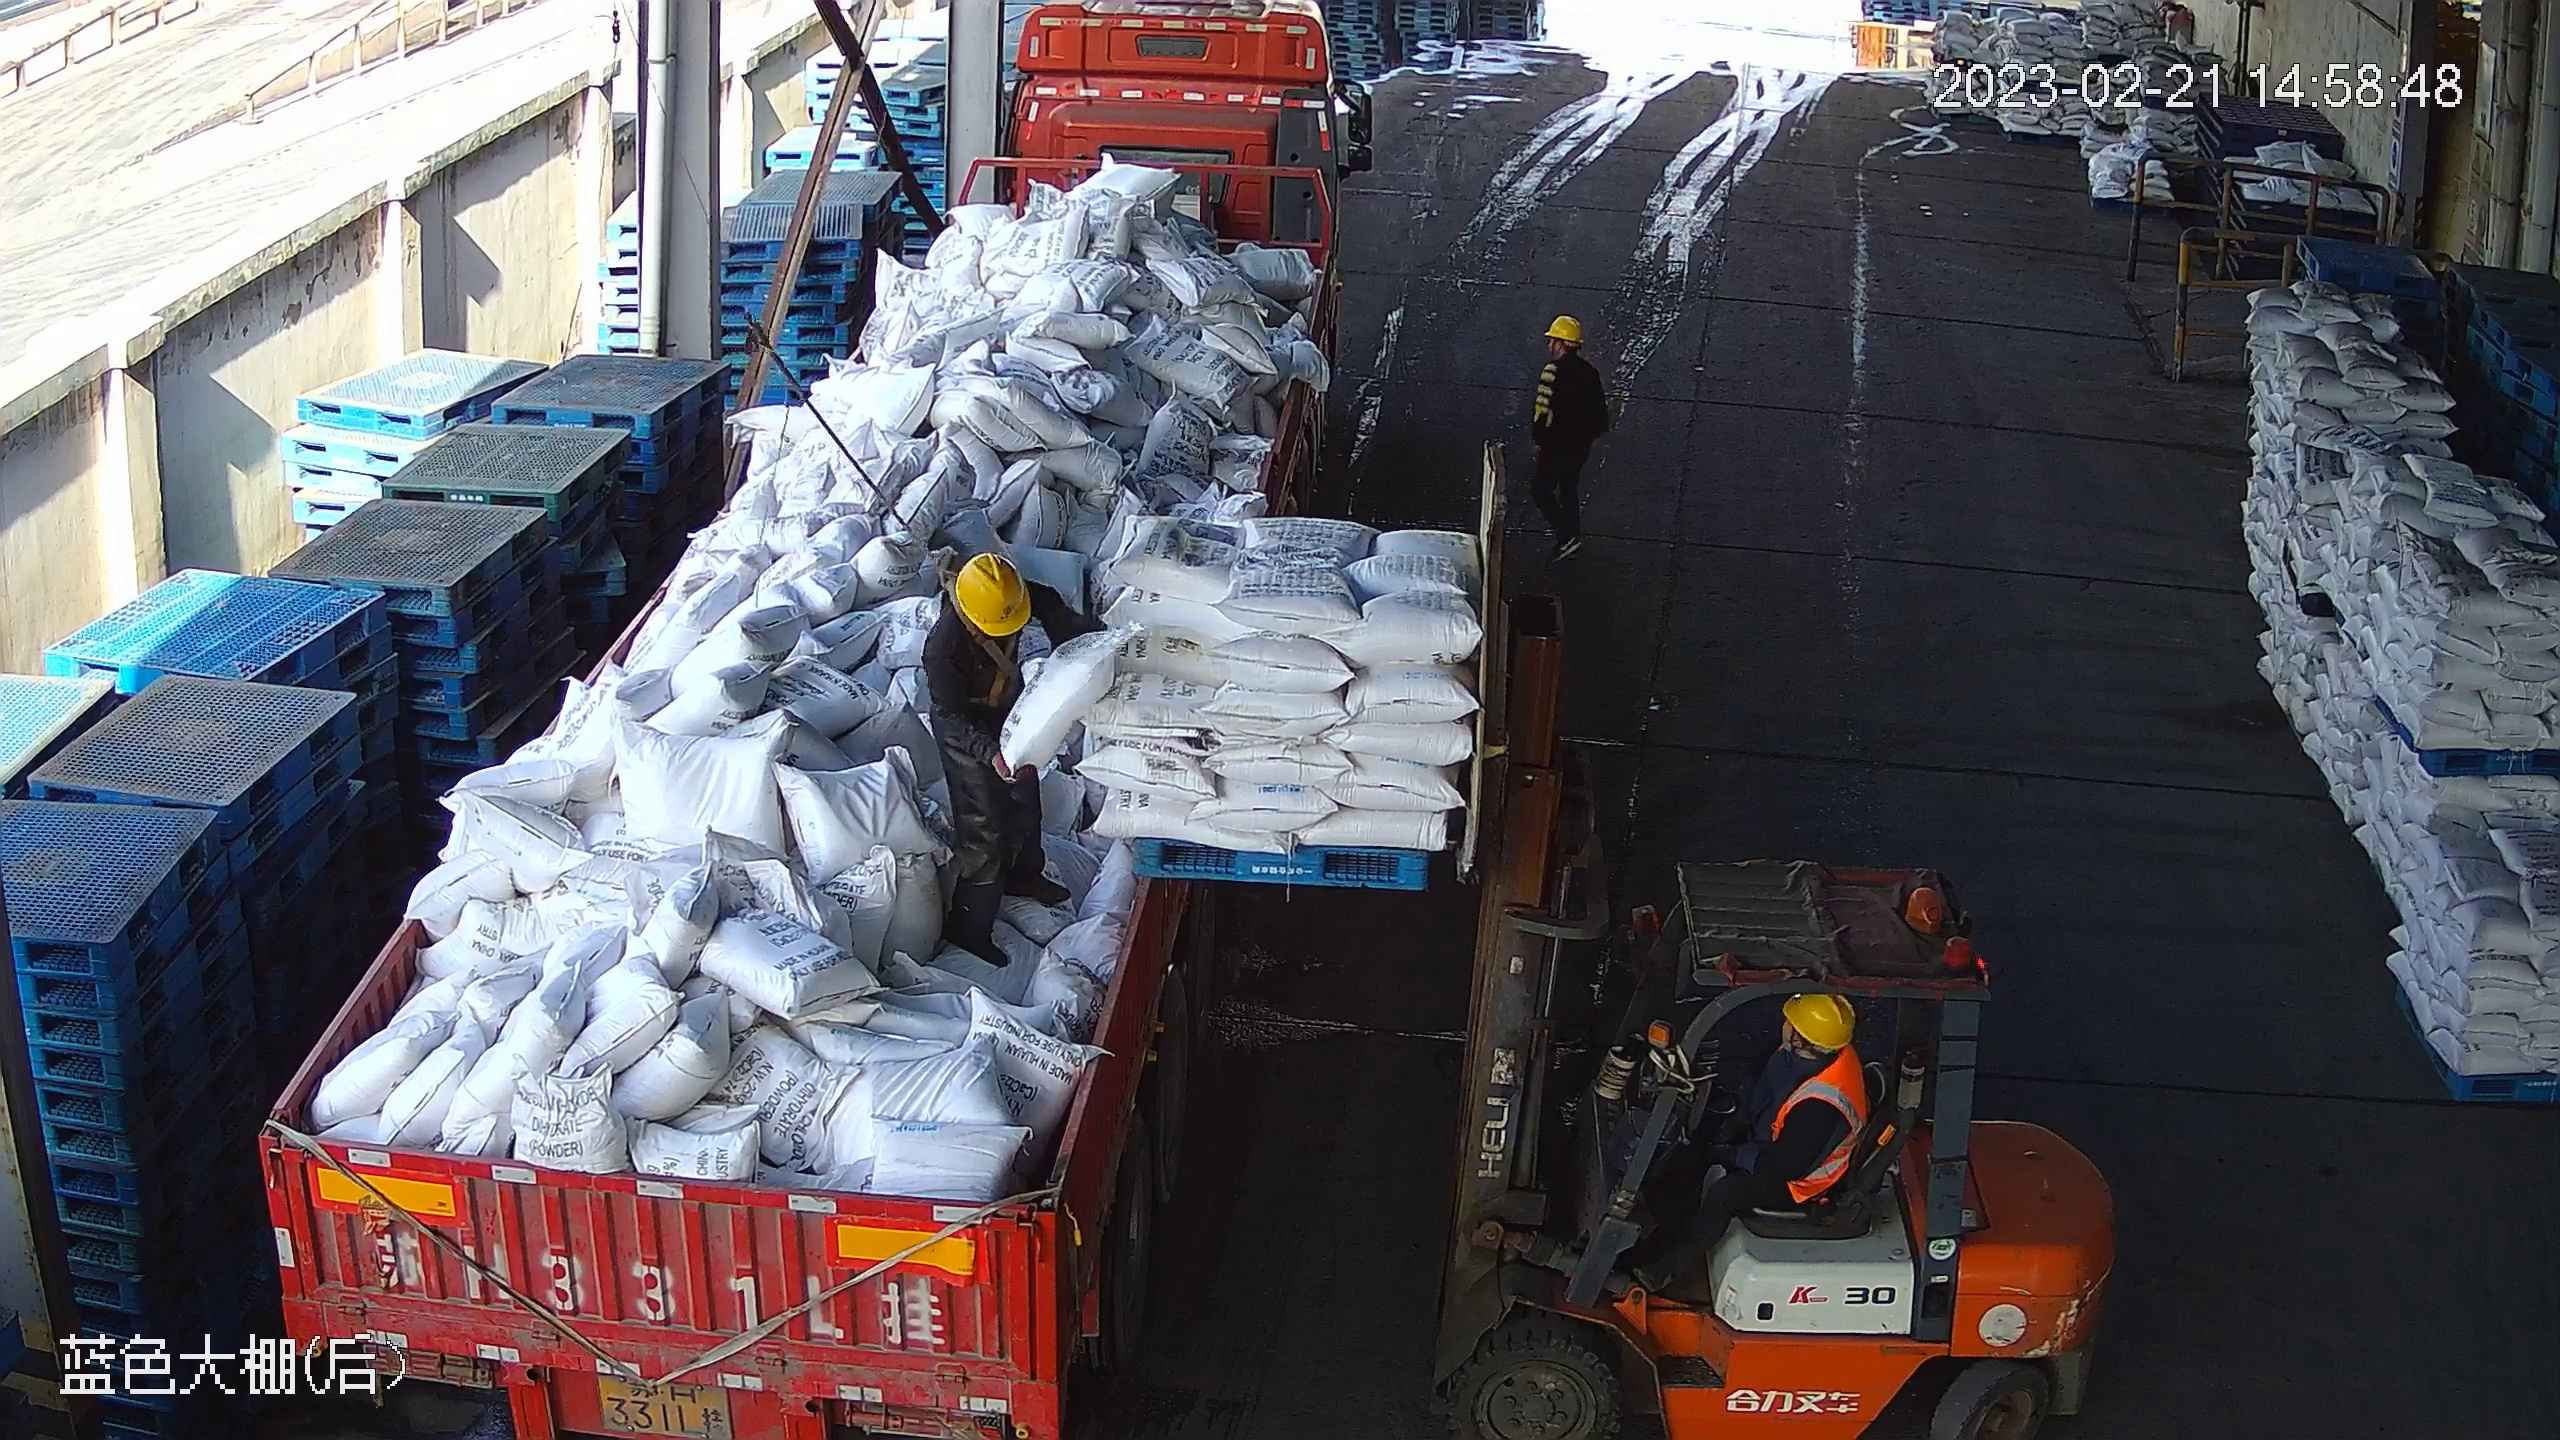belt: (930, 558, 1025, 708)
head: (1725, 987, 1873, 1137), (927, 551, 1065, 695), (1532, 309, 1594, 397)
helmet: (953, 552, 1030, 640), (1785, 994, 1859, 1052), (1546, 313, 1582, 345)
people: (1640, 992, 1871, 1292), (923, 558, 1084, 977), (1530, 314, 1596, 564)
truck: (244, 6, 1377, 1423)
